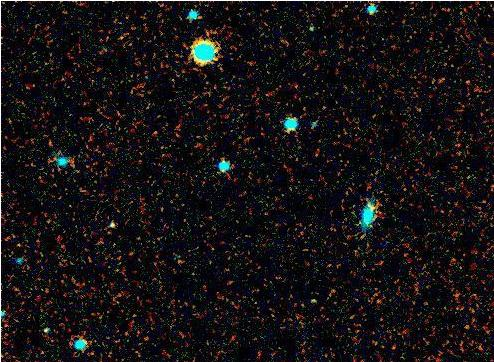star: (299, 287, 329, 317)
